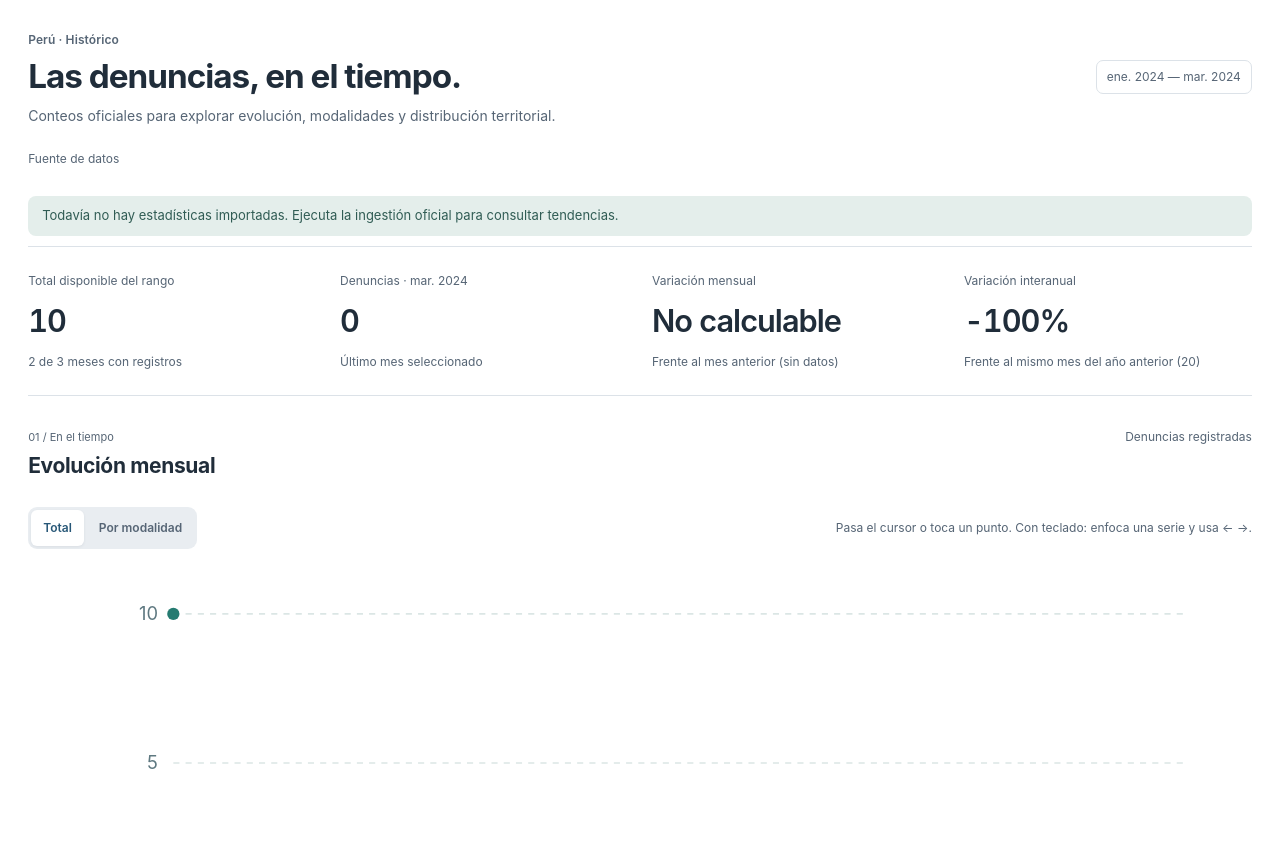
it: historical charts › filters category lines locally using the exact pie colors and preserves gaps and zeros
Later steps or results of the test are not shown.
Click the button "Por modalidad" at (140, 528), box left=87, top=510, right=194, bottom=546
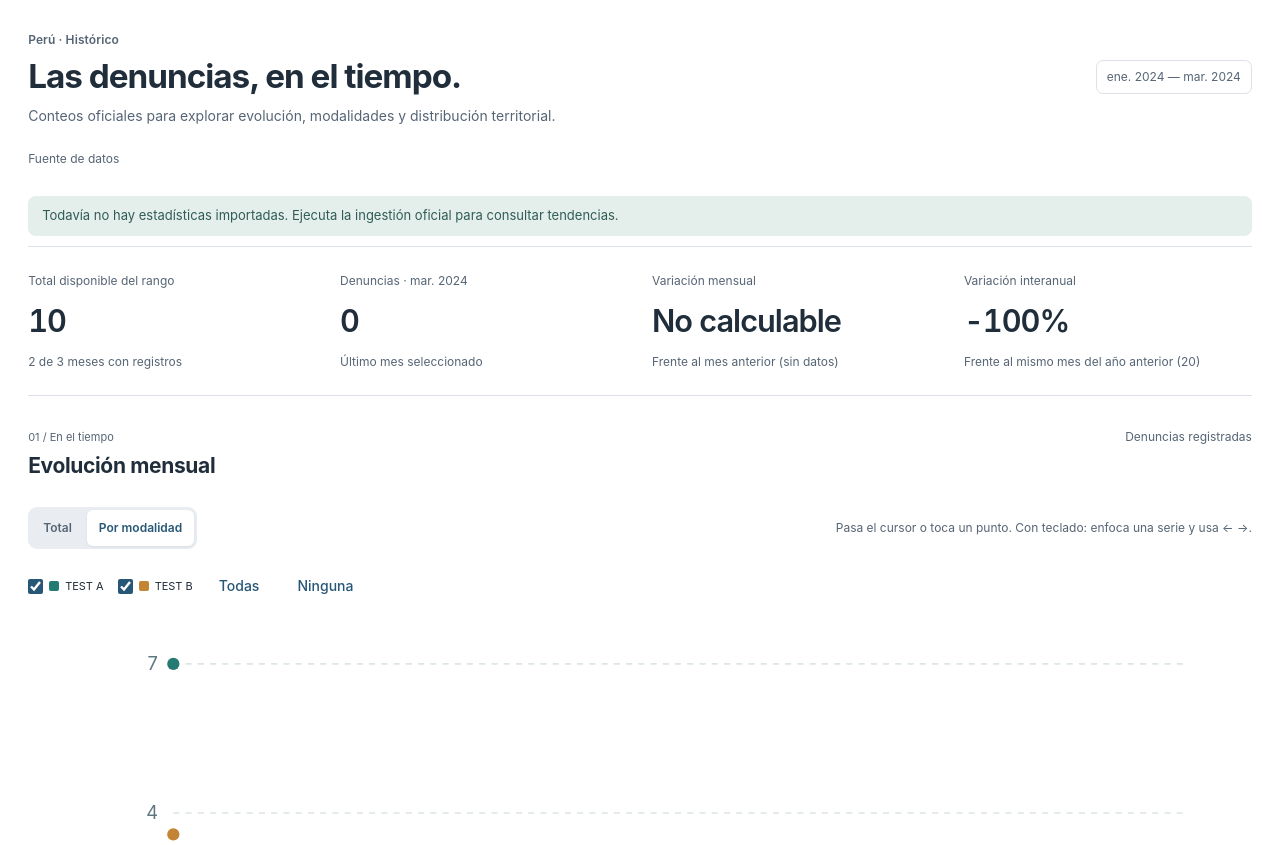
Click the checkbox labelled "TEST A" at (36, 586), box left=28, top=578, right=43, bottom=594
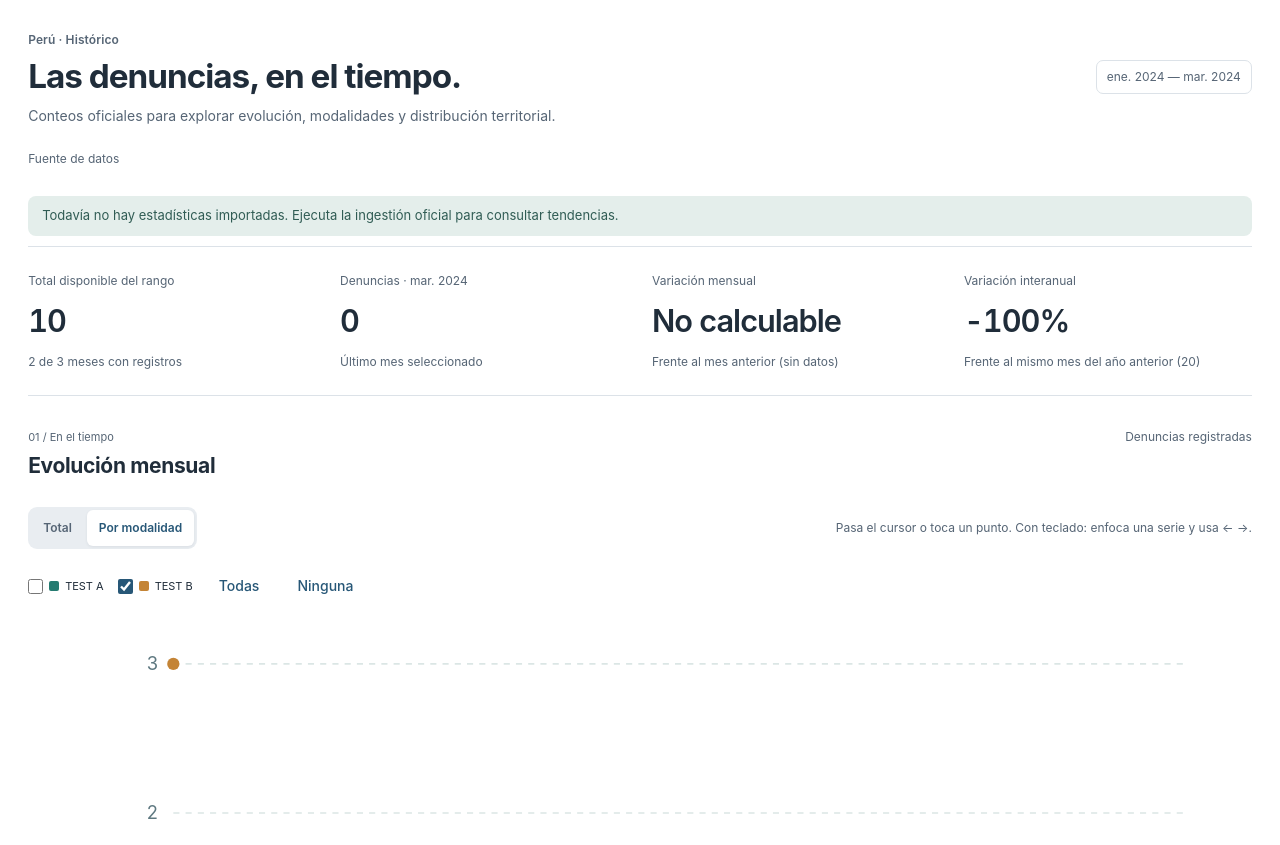
Click the button "Ninguna" at (325, 586), box left=285, top=568, right=365, bottom=604
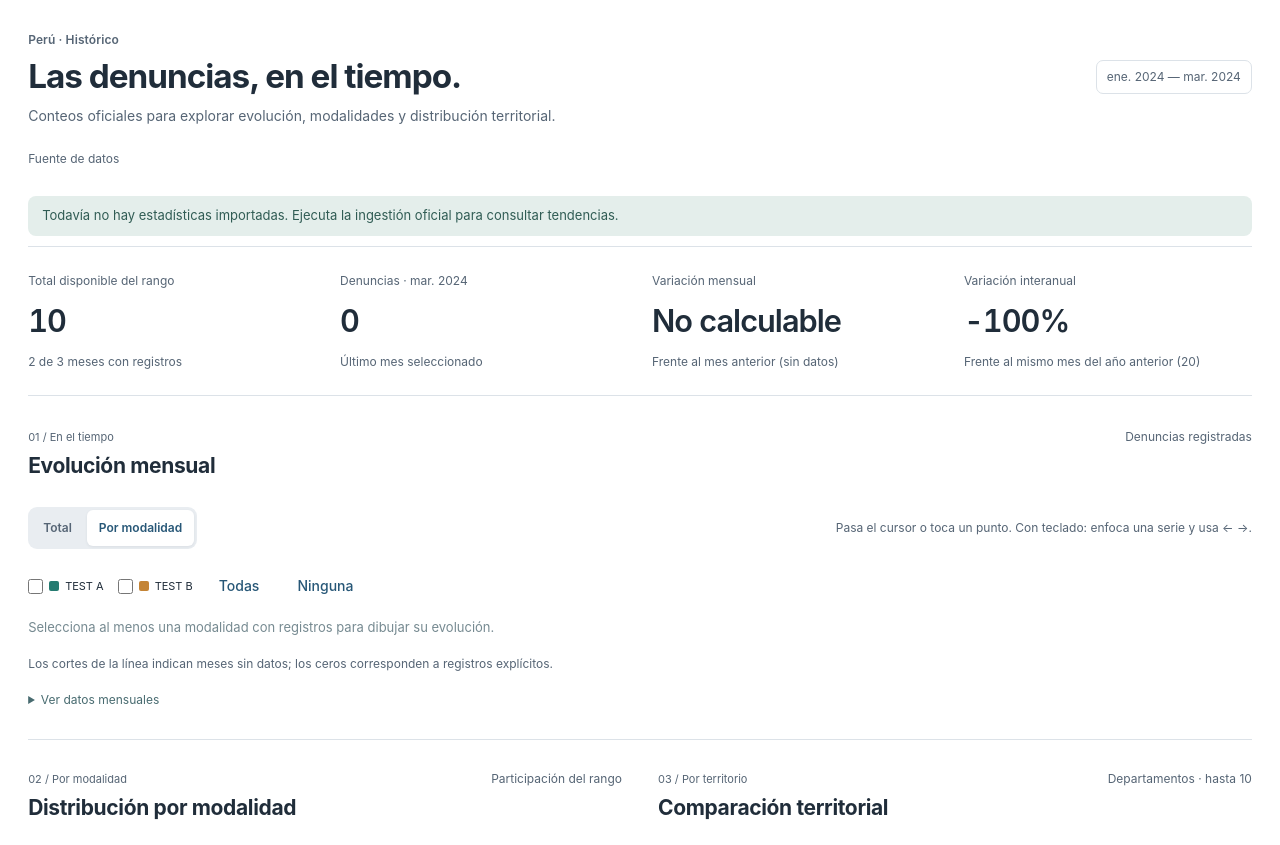
Expected: the text "Selecciona al menos una modalidad" is shown, left=28, top=619, right=494, bottom=635
